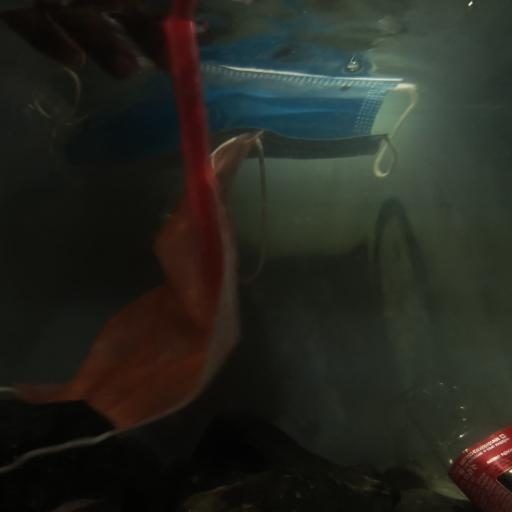mask: (19, 134, 270, 458), (28, 52, 420, 188)
plastic_bottle: (389, 359, 512, 512)
plastic_straw: (163, 0, 232, 304)
